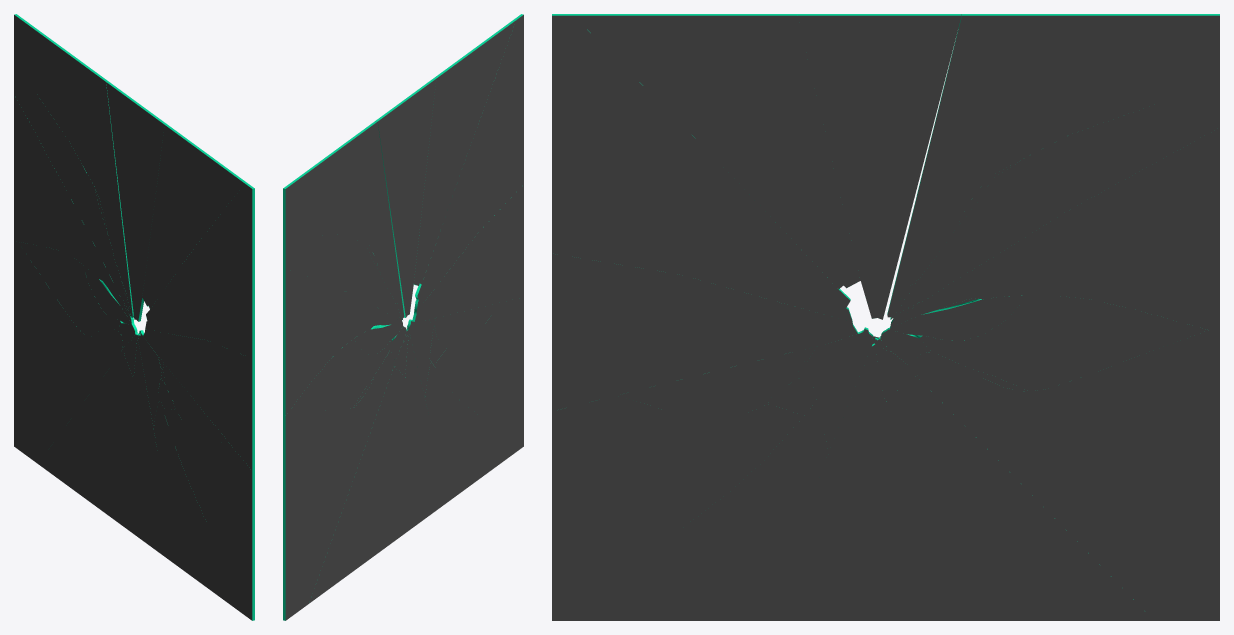
Rendered from vidrioSimple.glb.
The picture shows the model from 3 angles, left to right: view 1: azimuth 30°, elevation 25°; view 2: azimuth 150°, elevation 25°; view 3: azimuth 270°, elevation 25°; orthographic projection. The views are drawn at different scales.
Parts seen in each view (by area): view 1: Cube_0; view 2: Cube_0; view 3: Cube_0.
Boxes of the visible parts, <box> form: Cube_0: <box>14,14,254,620</box>; Cube_0: <box>283,14,523,620</box>; Cube_0: <box>552,14,1219,620</box>.
Size of the model in its own units: 0.0124 by 2 by 2.
